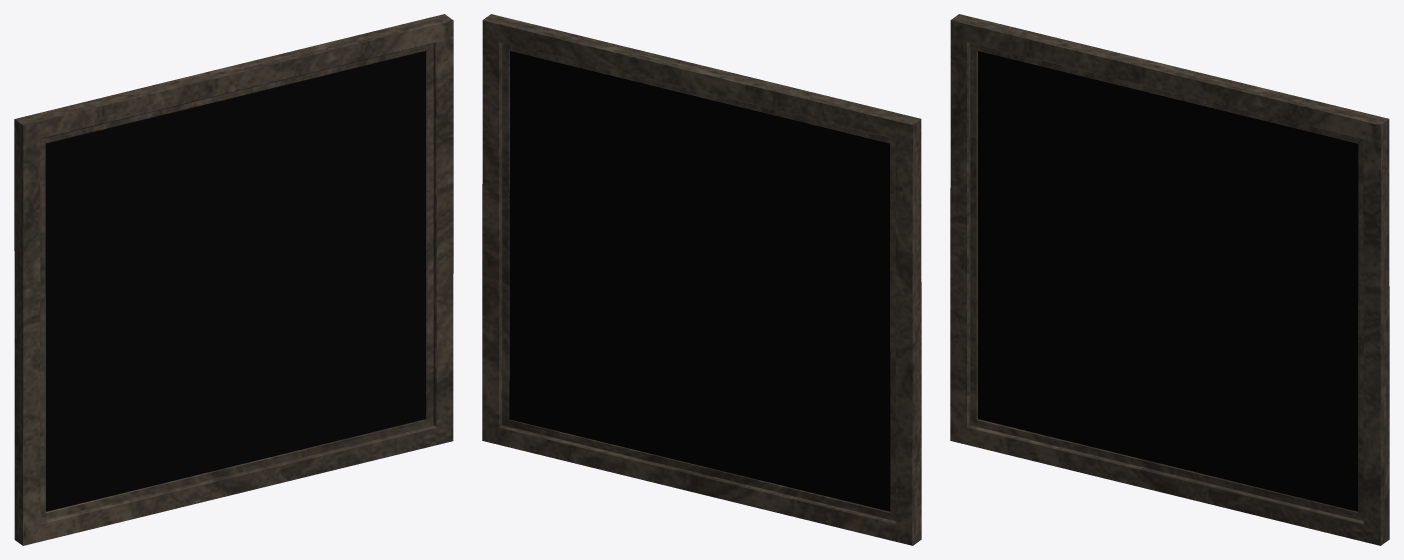
File: WindowFactory73448.spawn_asset13.glb
3 renders of one model, left to right at view 1: azimuth 30°, elevation 25°; view 2: azimuth 150°, elevation 25°; view 3: azimuth 330°, elevation 25°, orthographic.
Parts seen in each view (by area): view 1: WindowFactory(73448).spawn_asset(13).001; view 2: WindowFactory(73448).spawn_asset(13).001; view 3: WindowFactory(73448).spawn_asset(13).001.
Part boxes in pixels (left/top/right/bottom): WindowFactory(73448).spawn_asset(13).001: left=14, top=14, right=453, bottom=545; WindowFactory(73448).spawn_asset(13).001: left=482, top=14, right=921, bottom=545; WindowFactory(73448).spawn_asset(13).001: left=950, top=14, right=1389, bottom=545.
Bounding box in the file's own units: 1.54 × 1.43 × 0.0553.
1 material, 1 textured.
